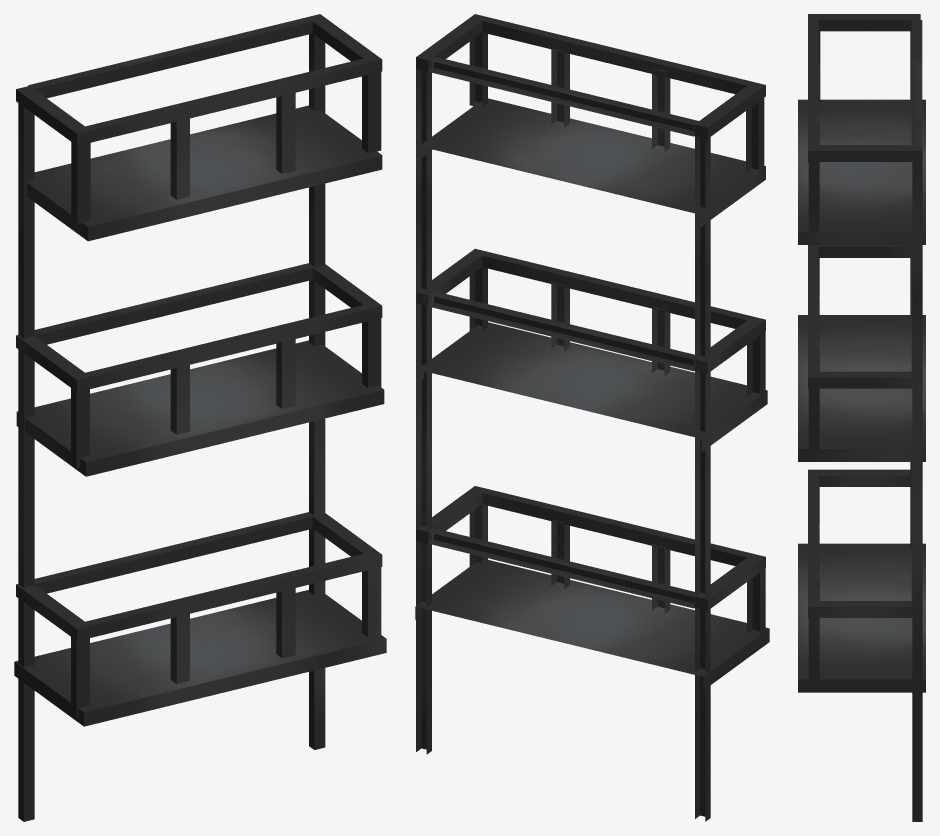
The model's file is SM_basket.FBX.
3 views of the same model, side by side, from view 1: azimuth 30°, elevation 25°; view 2: azimuth 150°, elevation 25°; view 3: azimuth 270°, elevation 25° (orthographic). The views are drawn at different scales.
Visible parts, largest first — view 1: basket; view 2: basket; view 3: basket.
Boxes of the visible parts, left/top/right/bottom form: basket: left=14, top=14, right=386, bottom=821; basket: left=415, top=14, right=769, bottom=821; basket: left=798, top=14, right=925, bottom=821.
Size of the model in its own units: 408 by 931 by 161.
Materials: 1 (1 with a texture image).
